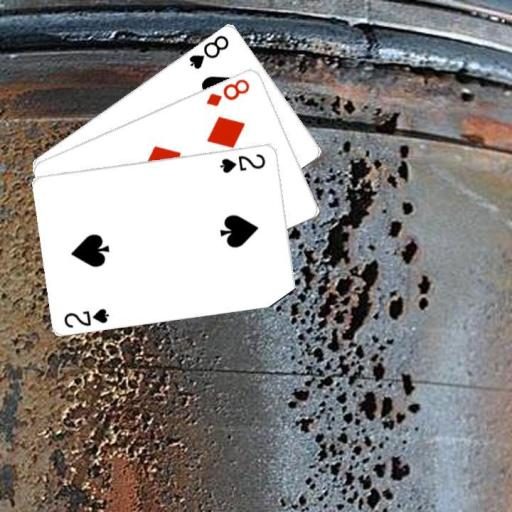2S: (60, 305, 111, 329), (217, 150, 267, 174)
8D: (203, 76, 252, 108)
8S: (186, 32, 231, 71)
